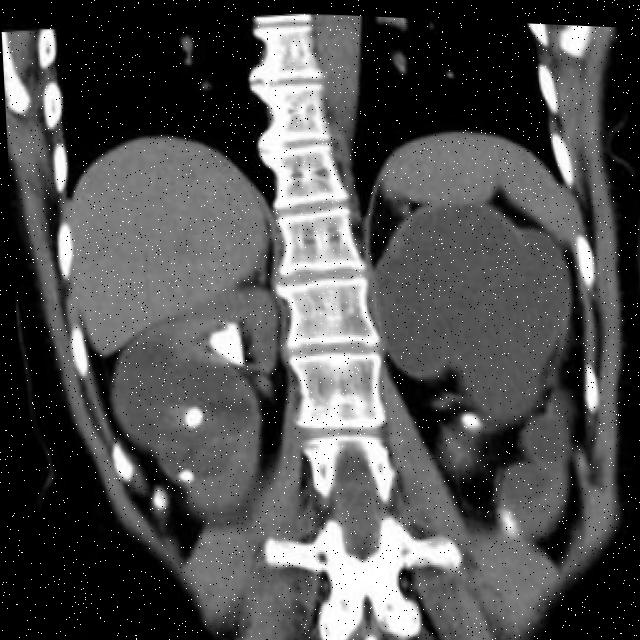Tas_Var: (176, 394, 205, 435), (455, 398, 483, 433), (170, 459, 197, 492)
